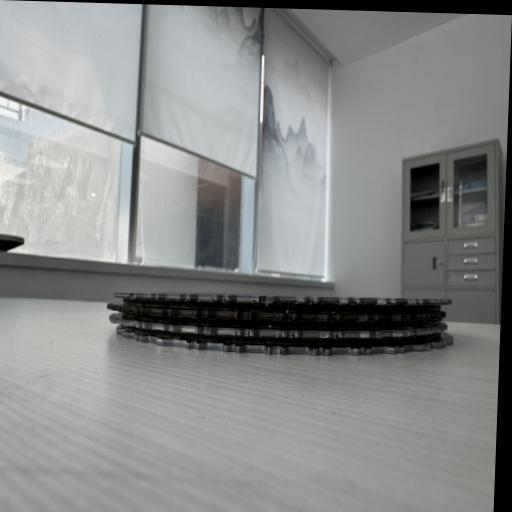black metal plate: (107, 303, 445, 322)
shiney metal plate: (116, 326, 454, 355), (109, 313, 447, 338), (113, 292, 452, 304)
spacer: (121, 325, 441, 346), (120, 313, 441, 329), (122, 301, 441, 312)
